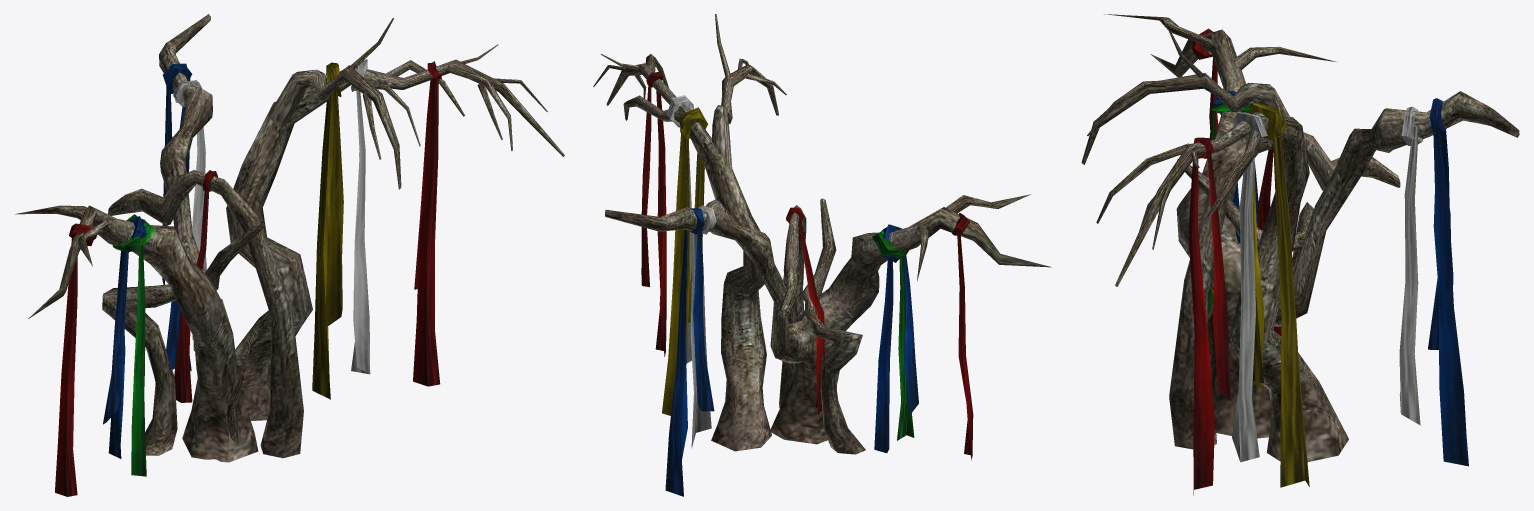
Rendered from treestatue_07.fbx.
3 views of the same model, side by side, from view 1: azimuth 30°, elevation 25°; view 2: azimuth 150°, elevation 25°; view 3: azimuth 270°, elevation 25° (orthographic). The views are drawn at different scales.
Visible parts, largest first — view 1: deadwood_06; view 2: deadwood_06; view 3: deadwood_06.
Part boxes in pixels (box(x1,y1,x2,y2)): deadwood_06: box(15, 14, 564, 496); deadwood_06: box(593, 14, 1051, 496); deadwood_06: box(1081, 14, 1519, 495).
Bounding box in the file's own units: 25.63 × 20.09 × 16.59.
